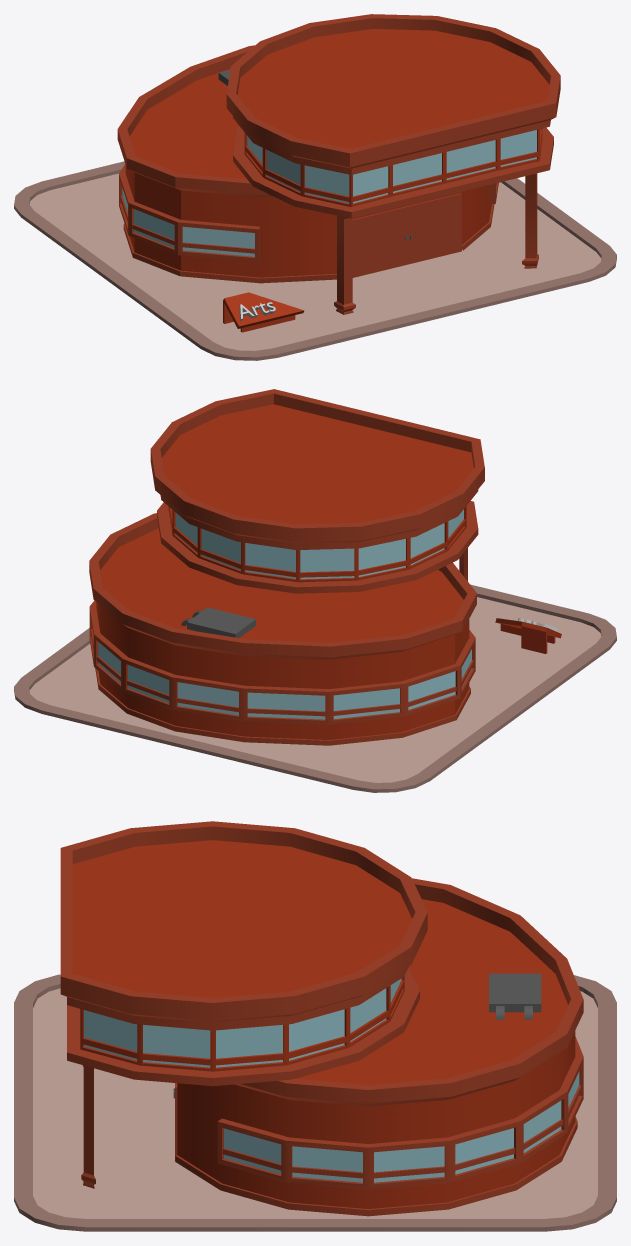
The model's file is Arts_Level_01.fbx.
3 renders of one model, top to bottom at view 1: azimuth 30°, elevation 25°; view 2: azimuth 150°, elevation 25°; view 3: azimuth 270°, elevation 25°, orthographic. The views are drawn at different scales.
Parts seen in each view (by area): view 1: Art_Level_01; view 2: Art_Level_01; view 3: Art_Level_01.
Part boxes in pixels (bbox=[...]): Art_Level_01: bbox=[14, 14, 616, 360]; Art_Level_01: bbox=[14, 389, 616, 792]; Art_Level_01: bbox=[14, 821, 616, 1231].
Bounding box in the file's own units: 2000 × 790 × 2000.
